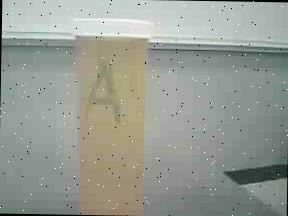Bottle A: (54, 9, 176, 216)
